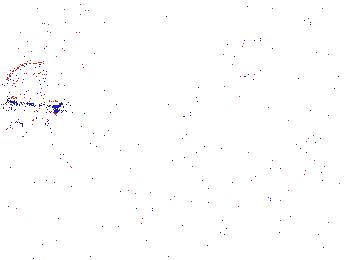moon jellyfish: (195, 39, 293, 110), (252, 21, 334, 78), (14, 23, 96, 71), (99, 19, 182, 66), (2, 61, 68, 108)
